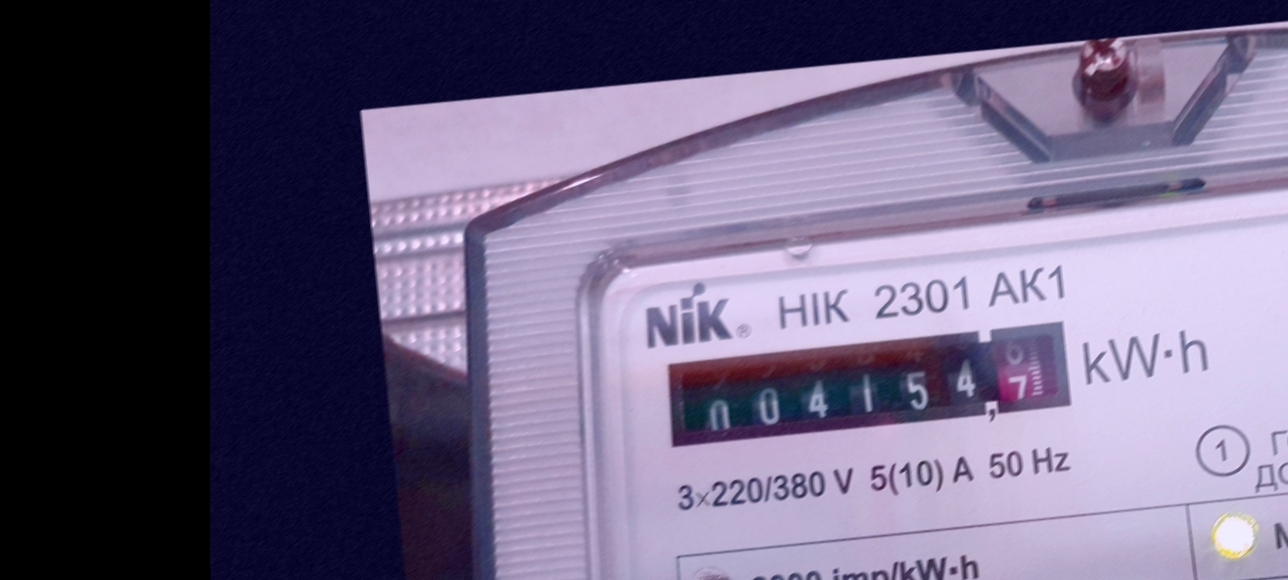0: (755, 384, 781, 427), (705, 395, 731, 431)
1: (858, 371, 875, 414)
4: (803, 377, 830, 421), (952, 354, 976, 400)
5: (903, 366, 931, 412)
6: (1001, 335, 1026, 367)
7: (1005, 371, 1029, 402)
screen: (647, 306, 1089, 462)
